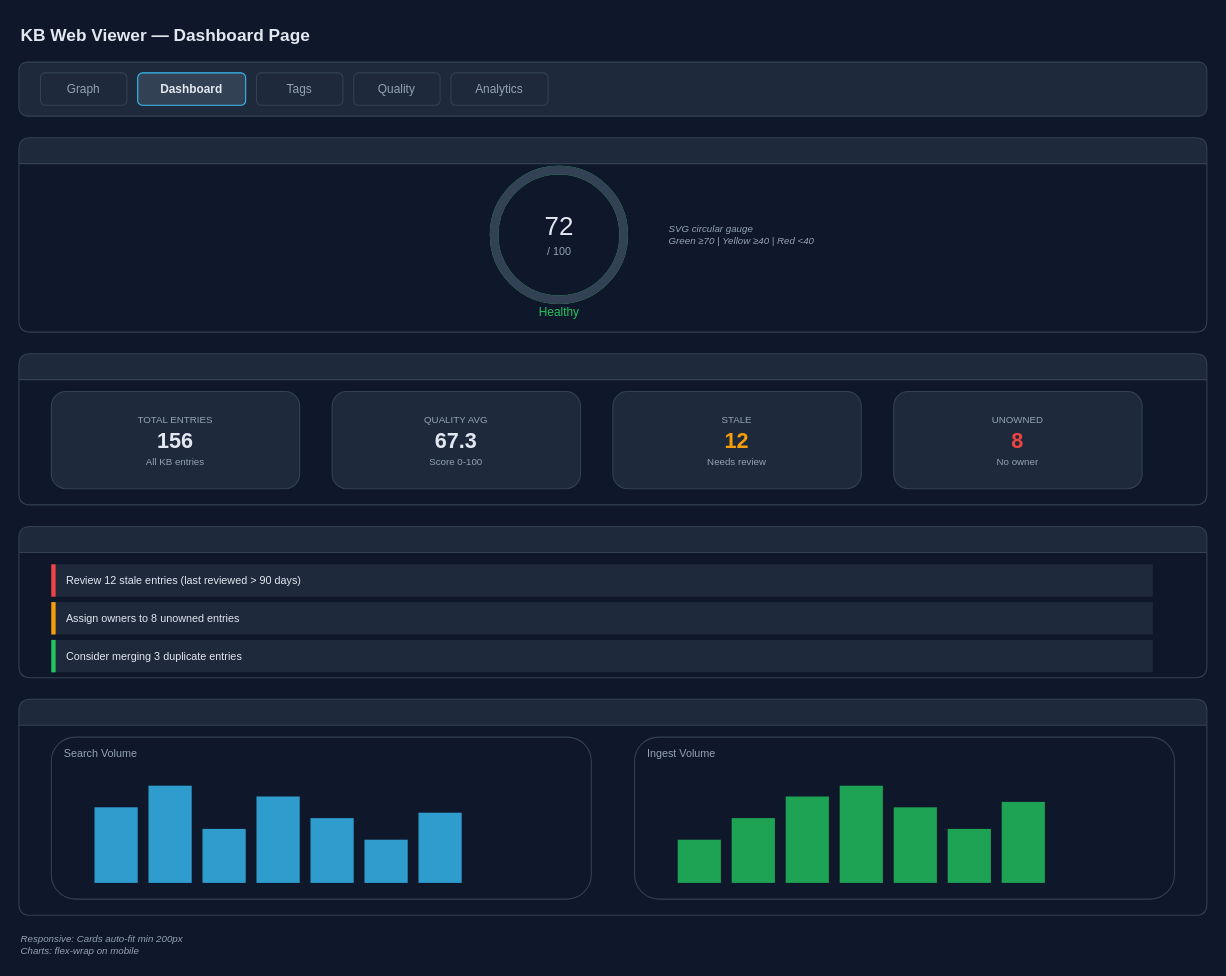
Some shapes in this 1226 by 976 pixel diagram are drawn without their labels. The shapes that lost their labels are listed below. From the top down, each one's box as (x1, y1, x2, y2) in pixels, then its label:
(18, 137, 1207, 332): Health Score
(18, 353, 1207, 505): Metrics Grid — CSS Grid: repeat(auto-fit, minmax(200px, 1fr))
(18, 525, 1207, 678): Recommendations
(18, 698, 1207, 915): Trends (7 days) — Canvas 2D bar charts
